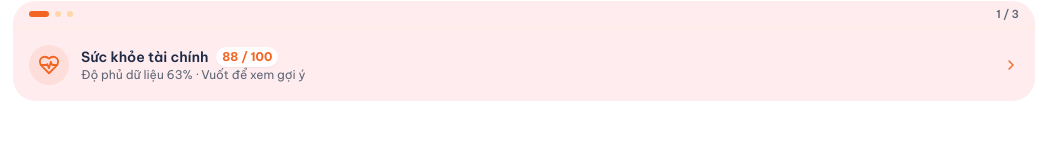
Test: HomeInsightWidget Carousel & Health Score › handles empty candidate slot gracefully without duplicating candidates
Go to slide 2
Click the tab named "Chuyển đến slide 2" at (58, 14), box top-left (55, 11), bottom-right (61, 17)
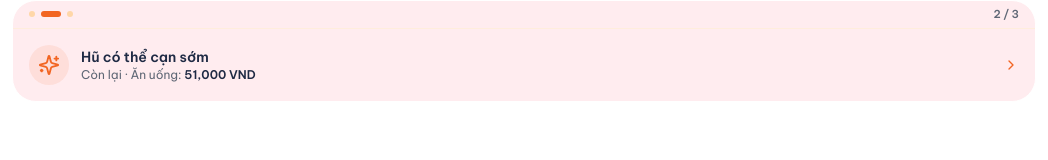
Result: the text "Hũ có thể cạn sớm" is shown at top-left (81, 48), bottom-right (209, 66)
Go to slide 3
Click the tab named "Chuyển đến slide 3" at (70, 14), box top-left (67, 11), bottom-right (73, 17)
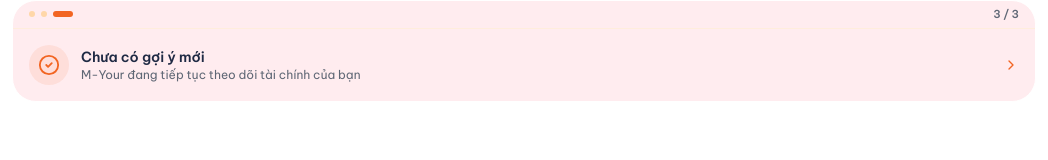
Result: the text "Chưa có gợi ý mới" is shown at top-left (81, 48), bottom-right (205, 66)
Result: the text "M-Your đang tiếp tục theo dõi tài chính của bạn" is shown at top-left (81, 67), bottom-right (360, 82)
